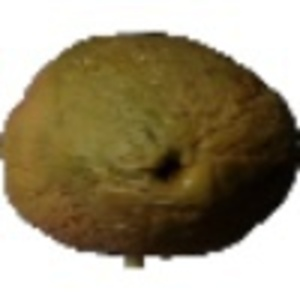mamão: (7, 25, 297, 255)
